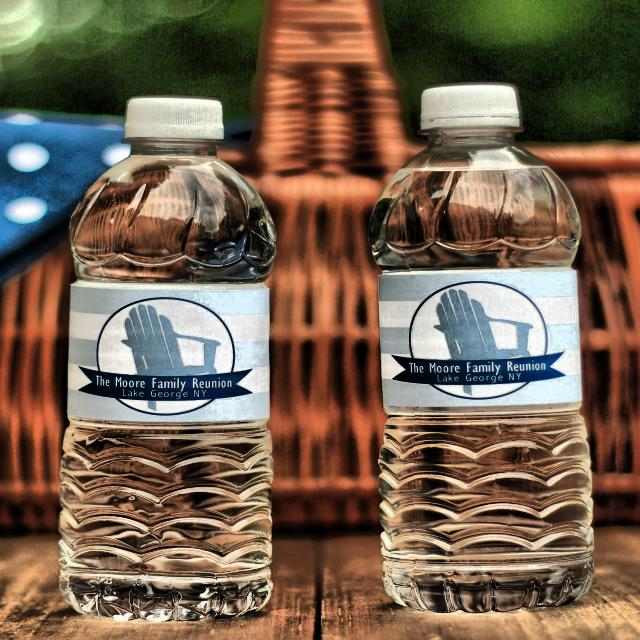Bottles: (351, 76, 611, 620), (52, 70, 288, 631)
